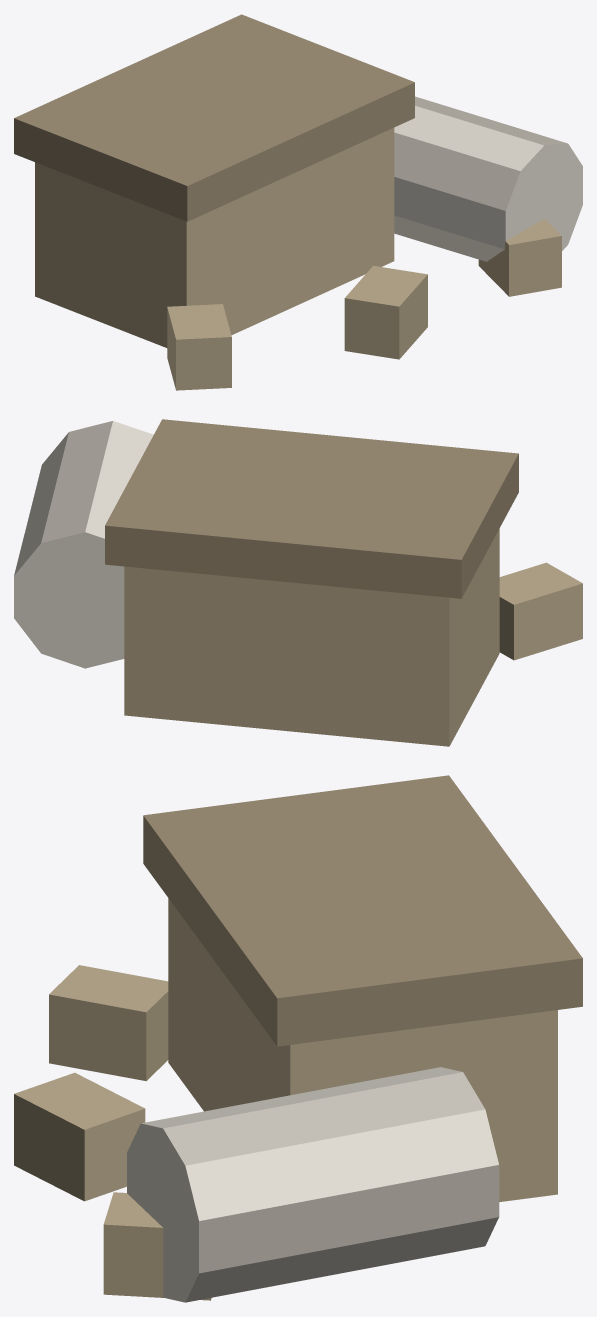
Rendered from marble_rubble.glb.
3 renders of one model, top to bottom at view 1: azimuth 30°, elevation 25°; view 2: azimuth 150°, elevation 25°; view 3: azimuth 270°, elevation 25°, orthographic. The views are drawn at different scales.
Visible parts, largest first — view 1: marble_rubble2; view 2: marble_rubble2; view 3: marble_rubble2.
Boxes of the visible parts, <box> form: marble_rubble2: <box>14,14,582,390</box>; marble_rubble2: <box>14,419,582,746</box>; marble_rubble2: <box>14,775,582,1302</box>.
Size of the model in its own units: 1.12 by 0.4 by 0.8533.
